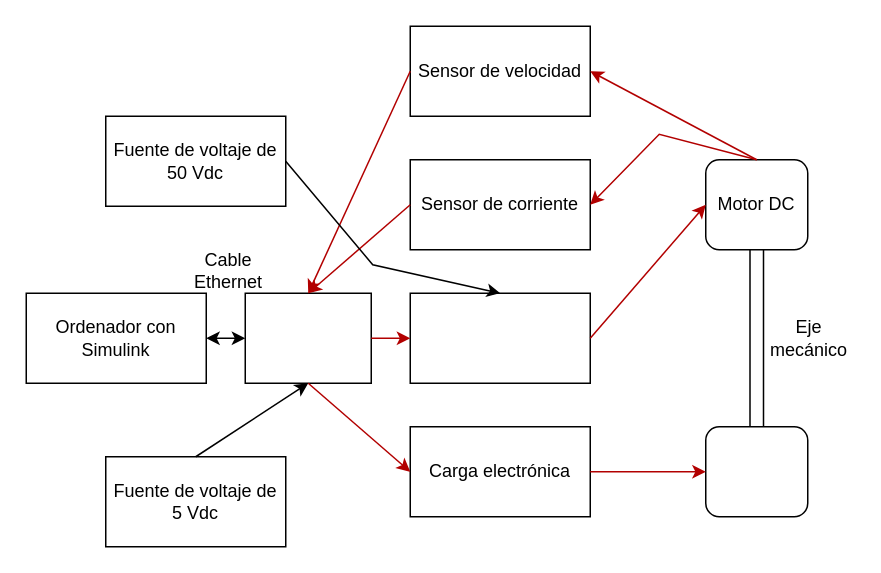
The diagram is 881 pixels wide and 573 high, and some of its shapes have lost their labels. Here are the shapes that lost their labels. From the top down, the centre of each, then its label:
point (307, 337): Módulo OPTO-22
point (499, 337): Actuador de velocidad (Fuente de voltaje)
point (756, 471): Generador DC
